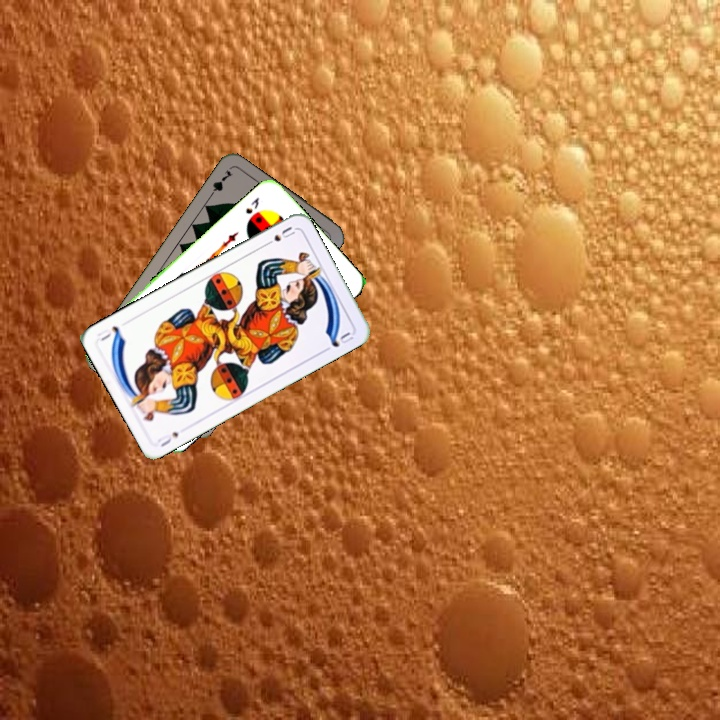G7: (204, 166, 235, 201)
SK: (241, 193, 262, 217)
SU: (260, 222, 298, 249), (154, 428, 181, 450)
